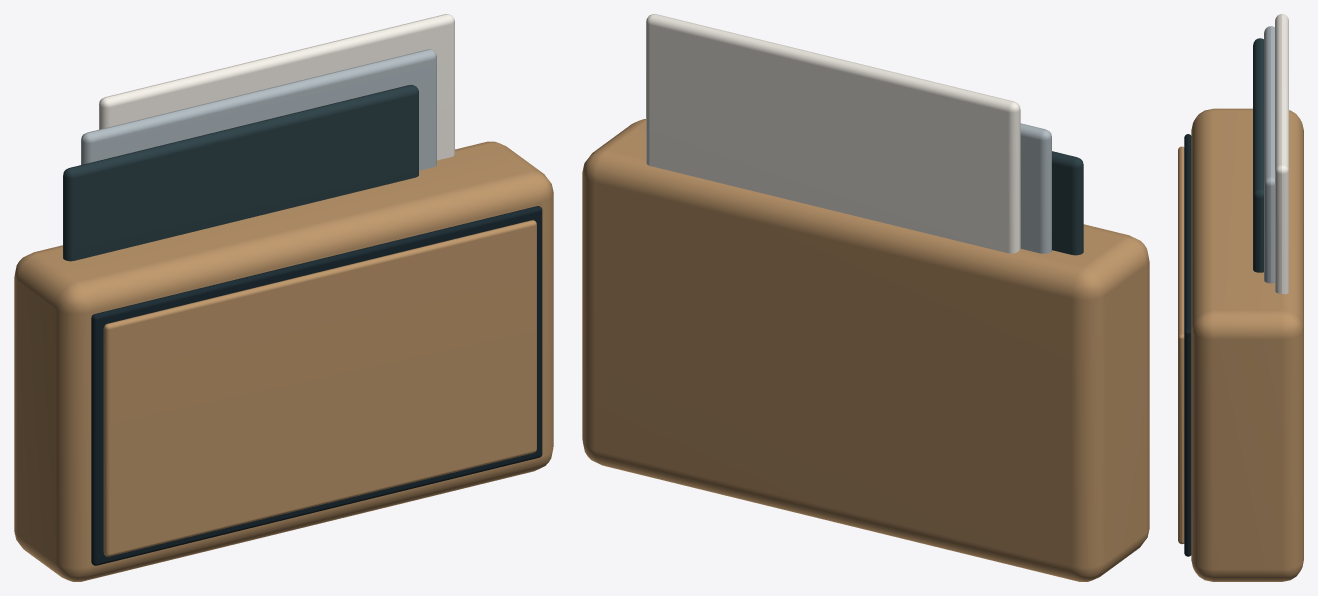
Rendered from entry-wallet.glb.
3 renders of one model, left to right at view 1: azimuth 30°, elevation 25°; view 2: azimuth 150°, elevation 25°; view 3: azimuth 270°, elevation 25°, orthographic. The views are drawn at different scales.
Parts seen in each view (by area): view 1: Leather front panel, Folded leather wallet, Blank payment card, Wallet seam, Blank payment card.002, Blank payment card.001; view 2: Folded leather wallet, Blank payment card.002, Blank payment card.001, Blank payment card; view 3: Folded leather wallet, Blank payment card.002, Wallet seam, Blank payment card.001, Leather front panel, Blank payment card.
Boxes of the visible parts, x1,y1,x2,y2 form: Leather front panel: [103, 220, 536, 556]; Folded leather wallet: [14, 141, 553, 581]; Blank payment card: [63, 84, 418, 261]; Wallet seam: [91, 206, 542, 565]; Blank payment card.002: [99, 14, 454, 160]; Blank payment card.001: [81, 49, 436, 170]; Folded leather wallet: [582, 119, 1149, 581]; Blank payment card.002: [646, 14, 1020, 253]; Blank payment card.001: [1020, 123, 1051, 253]; Blank payment card: [1052, 151, 1083, 255]; Folded leather wallet: [1191, 108, 1303, 581]; Blank payment card.002: [1275, 14, 1288, 294]; Wallet seam: [1184, 134, 1191, 556]; Blank payment card.001: [1264, 26, 1274, 283]; Leather front panel: [1178, 146, 1184, 544]; Blank payment card: [1253, 38, 1263, 272].
Bounding box in the file's own units: 4.06 × 3.43 × 0.9904.
